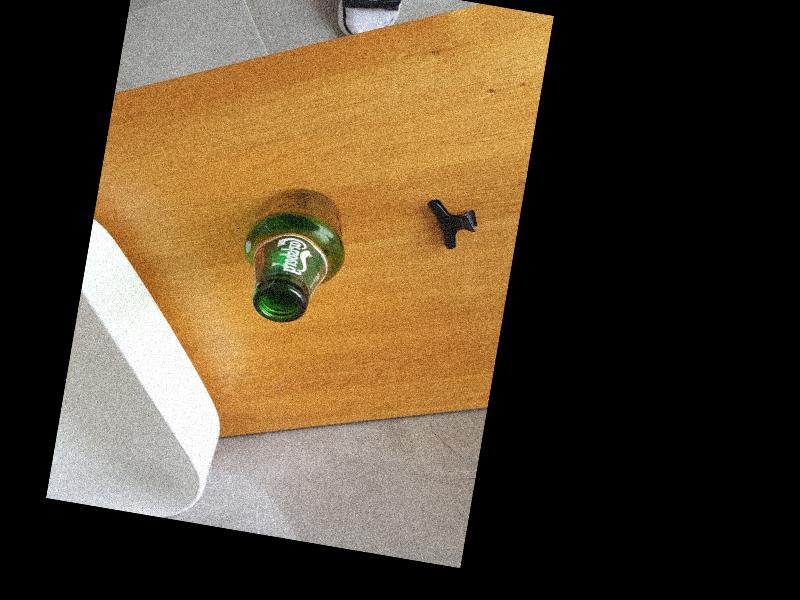Beer: (231, 180, 354, 330)
